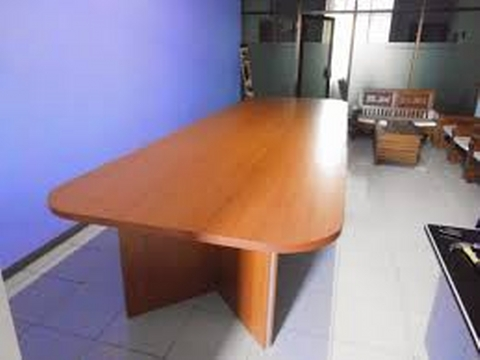meja: (47, 97, 348, 350), (372, 119, 424, 165)
